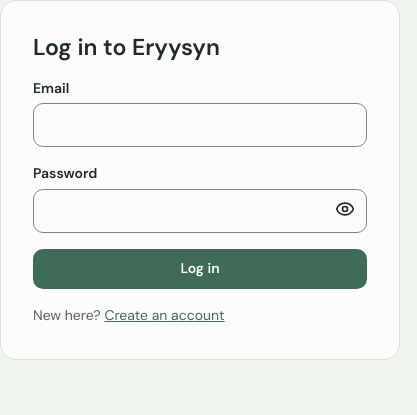
Test: Login › shows "Can't reach the server" when the request fails
The width and height of the screenshot is (417, 415).
Type "a@b.co" into the field labelled "Email" at (200, 125), box [33,103,367,147]
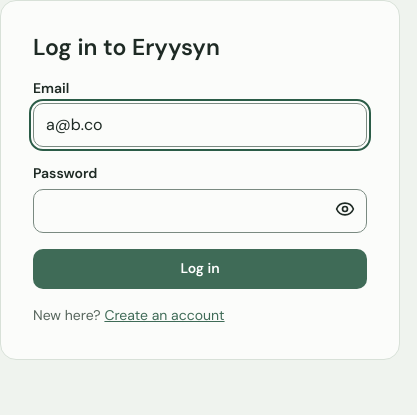
Type "secret1" into the password field labelled "Password" at (200, 211), box [33,189,367,233]
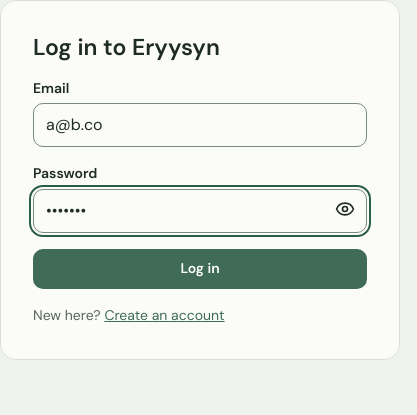
Click the button "Log in" at (200, 269), box [33,249,367,289]
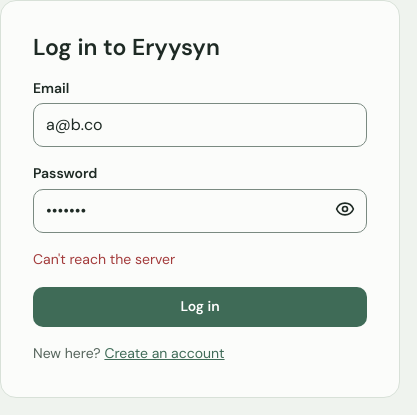
expect the text "Can't reach the server" is shown: met, box [33,250,175,268]
